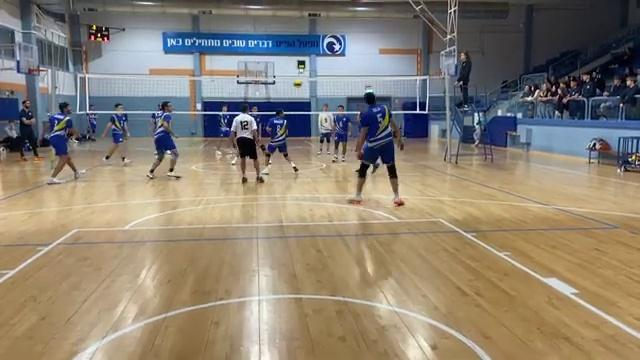ball: (291, 79, 306, 89)
